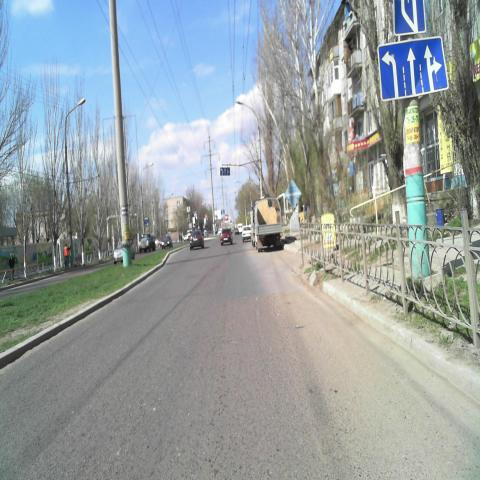5_15_1: (378, 37, 449, 103)
